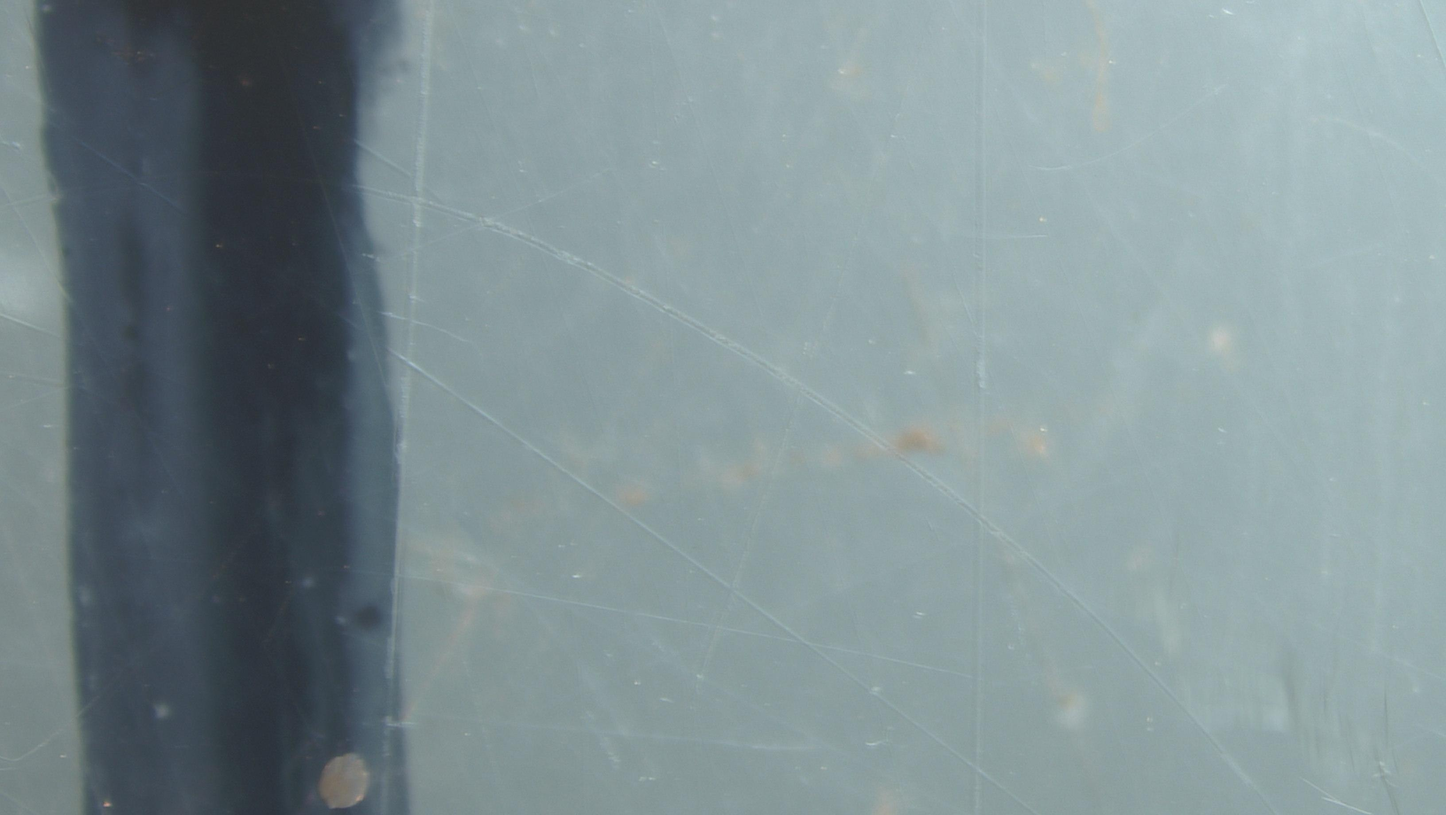live: (318, 753, 370, 809)
